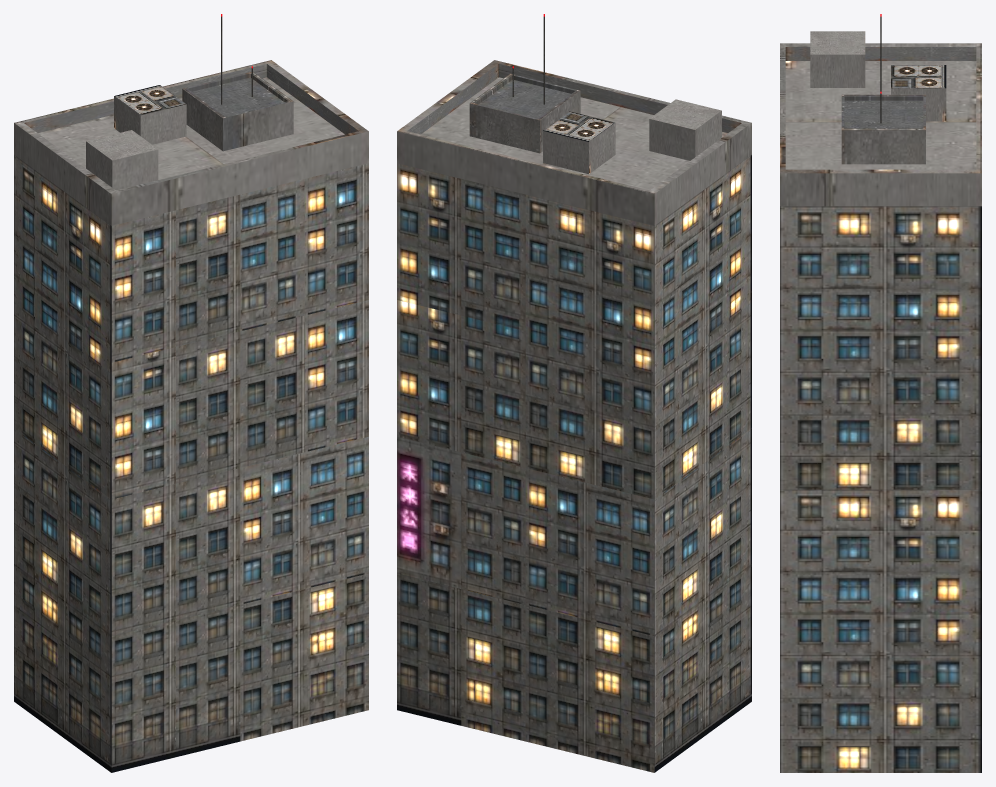
File: cyberpunk-residential-building-3.glb
The picture shows the model from 3 angles, left to right: view 1: azimuth 30°, elevation 25°; view 2: azimuth 150°, elevation 25°; view 3: azimuth 270°, elevation 25°; orthographic projection. The views are drawn at different scales.
Parts seen in each view (by area): view 1: cyberpunk-residential-building-3; view 2: cyberpunk-residential-building-3; view 3: cyberpunk-residential-building-3.
Boxes of the visible parts, x1,y1,x2,y2 form: cyberpunk-residential-building-3: (14, 14, 368, 772); cyberpunk-residential-building-3: (397, 14, 751, 772); cyberpunk-residential-building-3: (780, 14, 981, 772).
Size of the model in its own units: 55.91 by 142 by 36.66.
2 materials, 1 textured.
